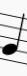note: (1, 7, 26, 68)
